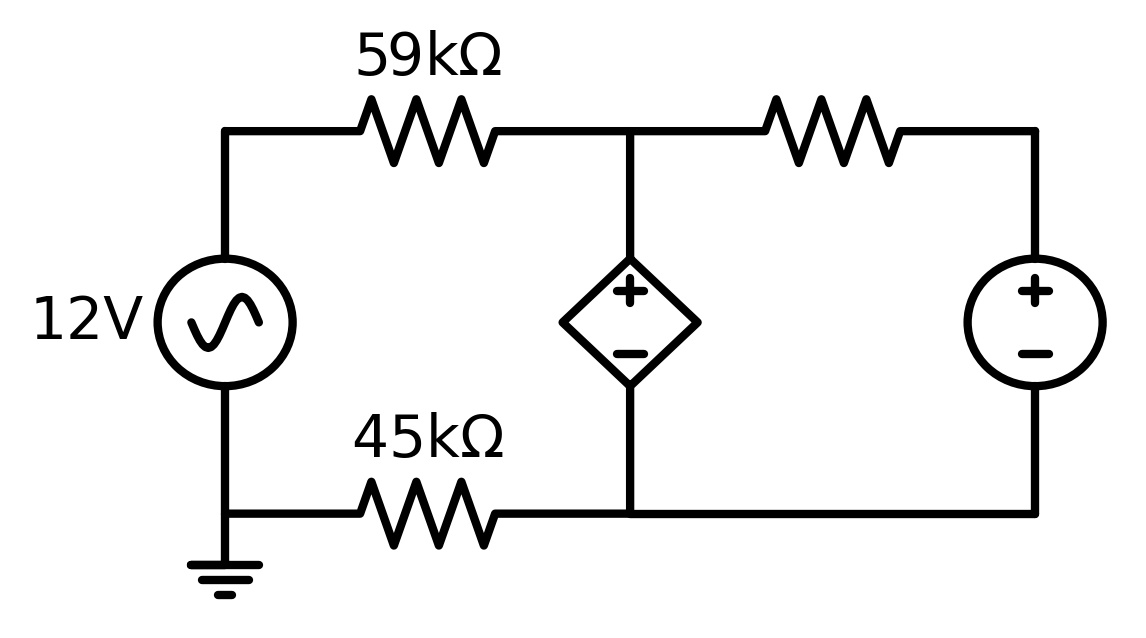ground: (180, 536, 270, 612)
resistor: (342, 84, 503, 192), (759, 82, 908, 187), (350, 467, 510, 561)
sourceac: (147, 245, 303, 401)
sourcedc: (947, 248, 1116, 402)
sourcevc: (547, 246, 713, 406)
